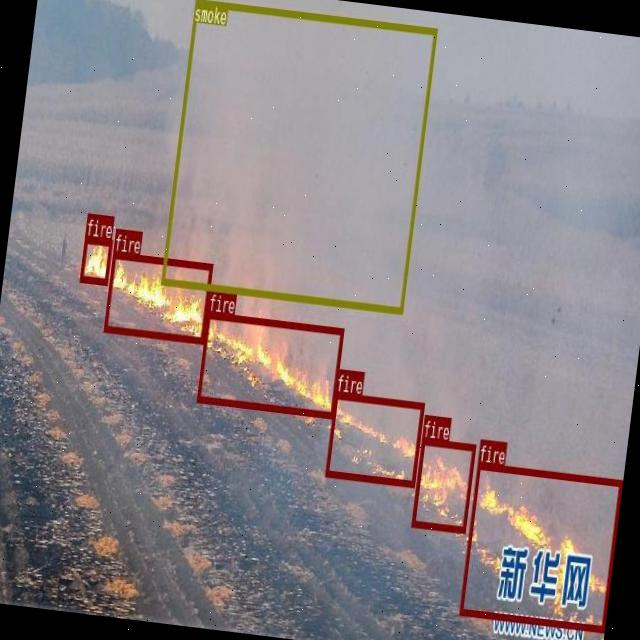fire: (458, 461, 621, 631), (196, 310, 344, 416), (102, 250, 212, 343), (324, 392, 424, 486), (411, 437, 475, 532), (79, 234, 112, 284)
smoke: (160, 0, 436, 312)
